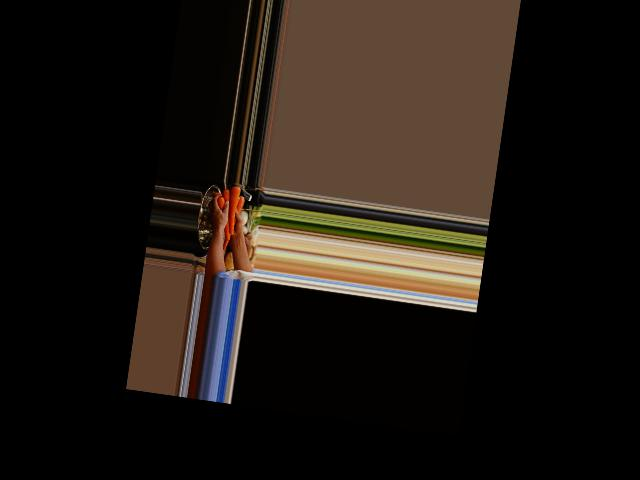carrot: (217, 188, 238, 243)
